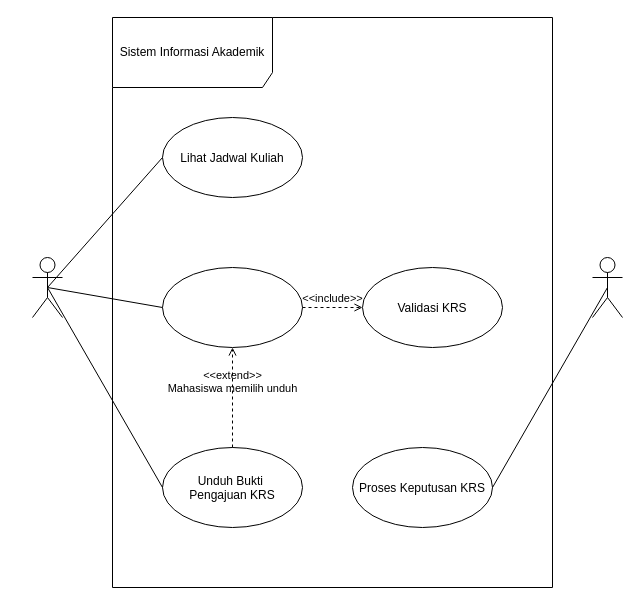
Some shapes in this 642 by 605 pixel diagram are drawn without their labels. The centre of each missing label's shape, as x and y in pixels:
Ajukan KRS: point (232, 307)
Dosen Wali: point (607, 287)
Mahasiswa: point (47, 287)
